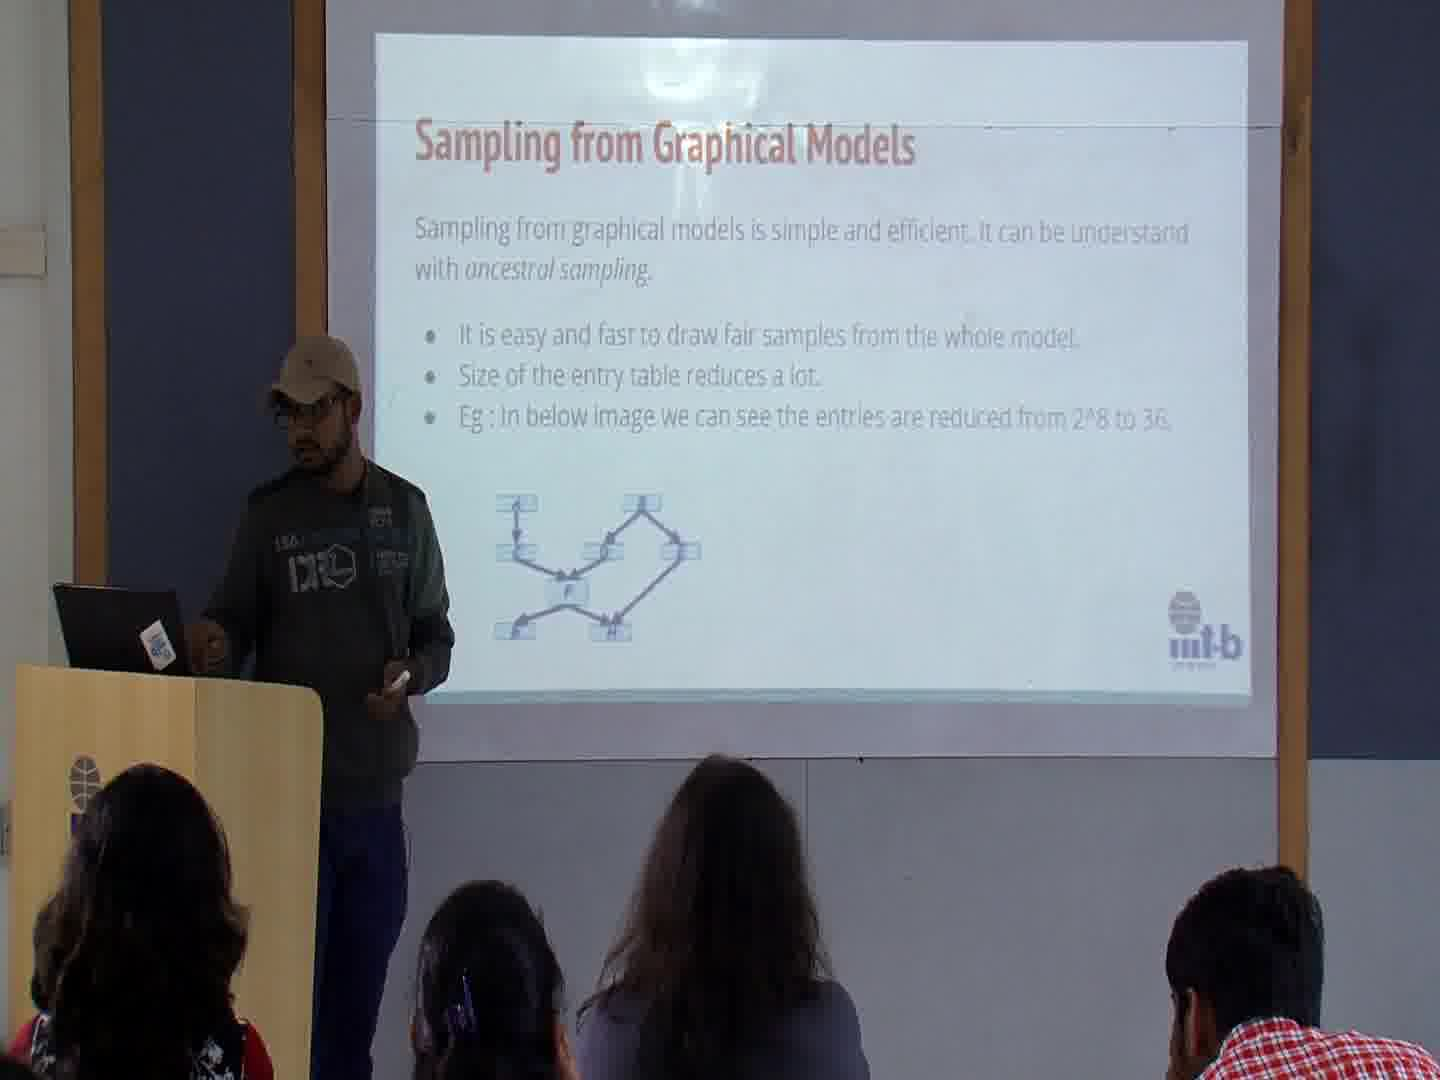slide: (373, 34, 1250, 704)
